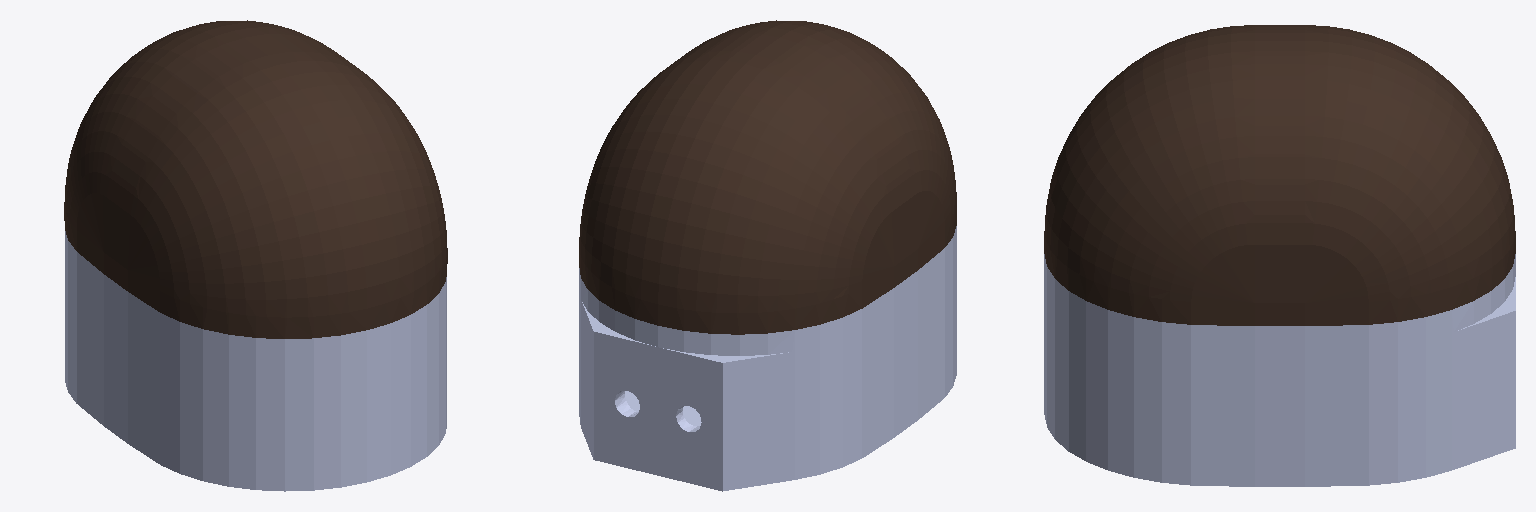
The robot description file, URDF, robot "URDF.SLDASM":
<?xml version="1.0" encoding="utf-8"?>
<!-- This URDF was automatically created by SolidWorks to URDF Exporter! Originally created by Stephen Brawner (brawner@gmail.com) 
     Commit Version: 1.6.0-4-g7f85cfe  Build Version: 1.6.7995.38578
     For more information, please see http://wiki.ros.org/sw_urdf_exporter -->
<robot
  name="URDF.SLDASM">
  <link
    name="shell">
    <inertial>
      <origin
        xyz="0.0001975605647068 -0.00118367480029045 0.00131122535491753"
        rpy="0 0 0" />
      <mass
        value="0.00302316737105698" />
      <inertia
        ixx="4.317709107102E-07"
        ixy="3.7521793126441E-14"
        ixz="-1.4297619885974E-13"
        iyy="5.90726203447095E-07"
        iyz="4.11669510834951E-09"
        izz="2.62862002776921E-07" />
    </inertial>
    <visual>
      <origin
        xyz="0 0 0"
        rpy="0 0 0" />
      <geometry>
        <mesh
          filename="package://URDF.SLDASM/meshes/shell.STL" />
      </geometry>
      <material
        name="">
        <color
          rgba="0.792156862745098 0.819607843137255 0.933333333333333 1" />
      </material>
    </visual>
    <collision>
      <origin
        xyz="0 0 0"
        rpy="0 0 0" />
      <geometry>
        <mesh
          filename="package://URDF.SLDASM/meshes/shell.STL" />
      </geometry>
    </collision>
  </link>
  <link
    name="skin">
    <inertial>
      <origin
        xyz="-8.83563558906272E-10 0.00928377249438958 -4.69758738418785E-10"
        rpy="0 0 0" />
      <mass
        value="0.0141334199432343" />
      <inertia
        ixx="1.97205758958518E-06"
        ixy="1.30236542750782E-13"
        ixz="-1.91979296408372E-13"
        iyy="2.5905085143408E-06"
        iyz="3.71540430992269E-14"
        izz="1.4162342440406E-06" />
    </inertial>
    <visual>
      <origin
        xyz="0 0 0"
        rpy="0 0 0" />
      <geometry>
        <mesh
          filename="package://URDF.SLDASM/meshes/skin.STL" />
      </geometry>
      <material
        name="">
        <color
          rgba="0.317647058823529 0.247058823529412 0.207843137254902 1" />
      </material>
    </visual>
    <collision>
      <origin
        xyz="0 0 0"
        rpy="0 0 0" />
      <geometry>
        <mesh
          filename="package://URDF.SLDASM/meshes/skin.STL" />
      </geometry>
    </collision>
  </link>
  <joint
    name="Axis"
    type="continuous">
    <origin
      xyz="0.000197564177104219 -0.00200000000000954 0.00879327483833061"
      rpy="1.5707963267949 0 0" />
    <parent
      link="shell" />
    <child
      link="skin" />
    <axis
      xyz="0 -1 0" />
  </joint>
</robot>

--- Facts derived from the render (not from the file) ---
Views: 3 orthographic renders of the robot side by side, from view 1: azimuth 30°, elevation 25°; view 2: azimuth 150°, elevation 25°; view 3: azimuth 270°, elevation 25°.
Model URDF.SLDASM with 2 links and 1 joints (1 continuous), rooted at shell, posed all joints at 0.
Visible links, largest first — view 1: skin, shell; view 2: skin, shell; view 3: skin, shell.
Boxes of the visible links, box(x1,y1,x2,y2) form: skin: box(64, 20, 447, 338); shell: box(65, 231, 446, 491); skin: box(579, 20, 956, 334); shell: box(579, 226, 956, 491); skin: box(1044, 25, 1515, 325); shell: box(1044, 254, 1515, 486).
Bounding box of the posed robot: 0.027 × 0.0372 × 0.0326 m (x, y, z).
2 mesh visuals loaded from 2 distinct referenced files (2 binary STL).
